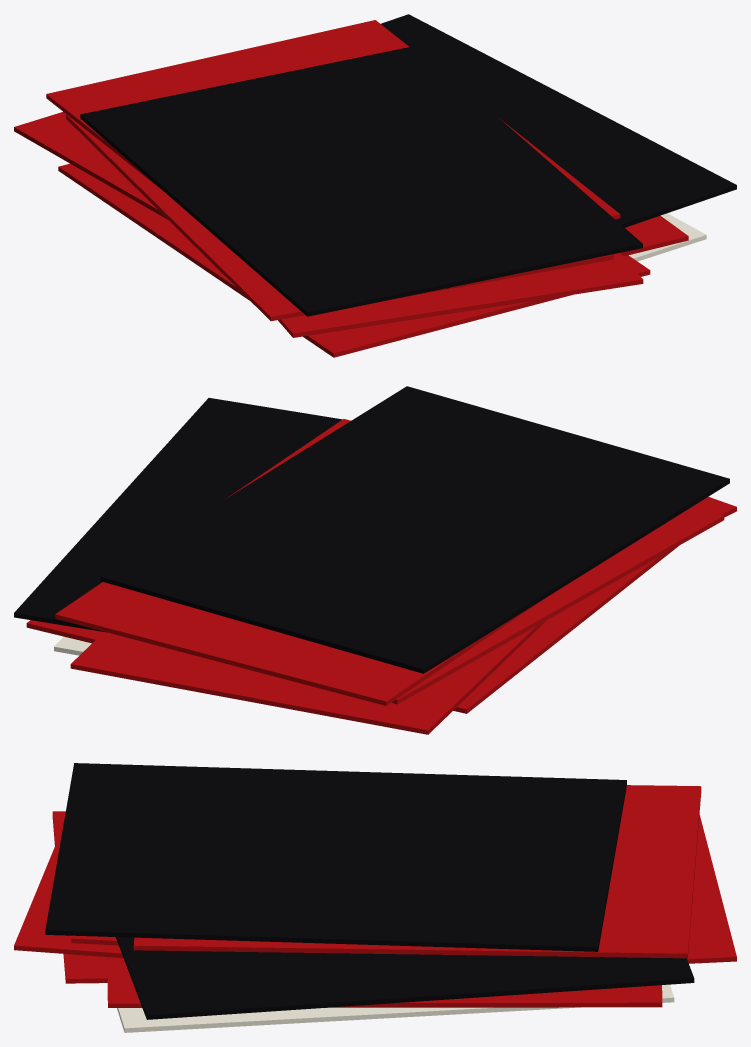
File: Item_OR_Cards_06.glb
The picture shows the model from 3 angles, top to bottom: view 1: azimuth 30°, elevation 25°; view 2: azimuth 150°, elevation 25°; view 3: azimuth 270°, elevation 25°; orthographic projection. The views are drawn at different scales.
Visible parts, largest first — view 1: Item_OR_Cards_06; view 2: Item_OR_Cards_06; view 3: Item_OR_Cards_06.
Boxes of the visible parts, x1,y1,x2,y2 form: Item_OR_Cards_06: (14, 14, 736, 357); Item_OR_Cards_06: (14, 386, 736, 734); Item_OR_Cards_06: (14, 763, 736, 1032).
Bounding box in the file's own units: 0.0935 × 0.0088 × 0.1148.
